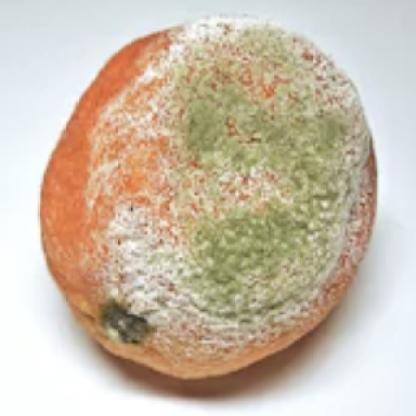rotten: (36, 13, 356, 383)
